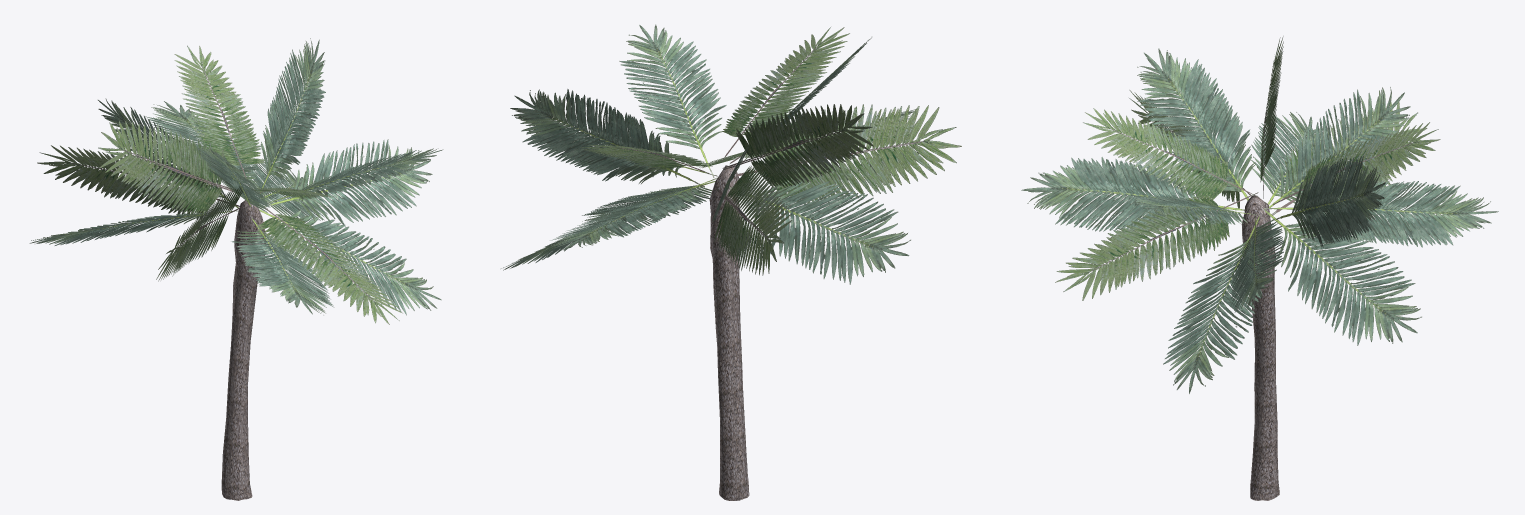
File: palm_tree_9_LOD0.FBX
The picture shows the model from 3 angles, left to right: view 1: azimuth 30°, elevation 25°; view 2: azimuth 150°, elevation 25°; view 3: azimuth 270°, elevation 25°; orthographic projection. The views are drawn at different scales.
Parts seen in each view (by area): view 1: Plane317, Cylinder007; view 2: Plane317, Cylinder007; view 3: Plane317, Cylinder007.
Part boxes in pixels (x1,y1,x2,y2): Plane317: (29,38,443,324); Cylinder007: (221,200,265,500); Plane317: (501,24,961,284); Cylinder007: (709,165,749,500); Plane317: (1021,36,1498,393); Cylinder007: (1241,195,1279,500).
Size of the model in its own units: 14.3 by 15.65 by 14.46.
